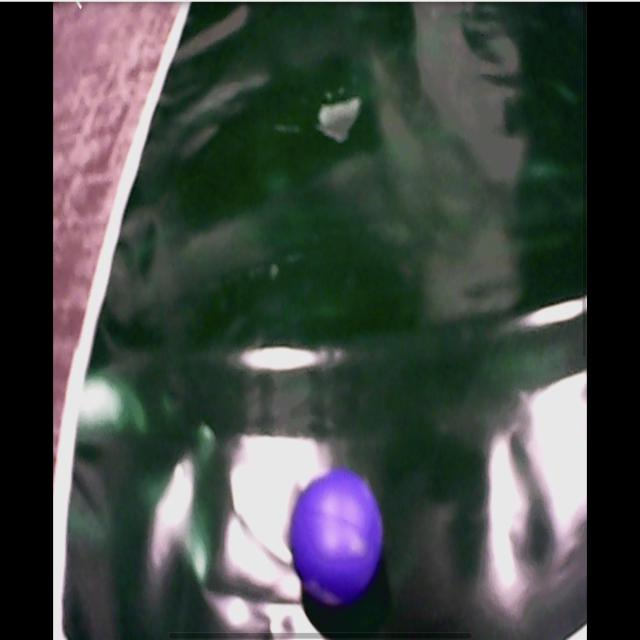ball: (292, 468, 384, 606)
